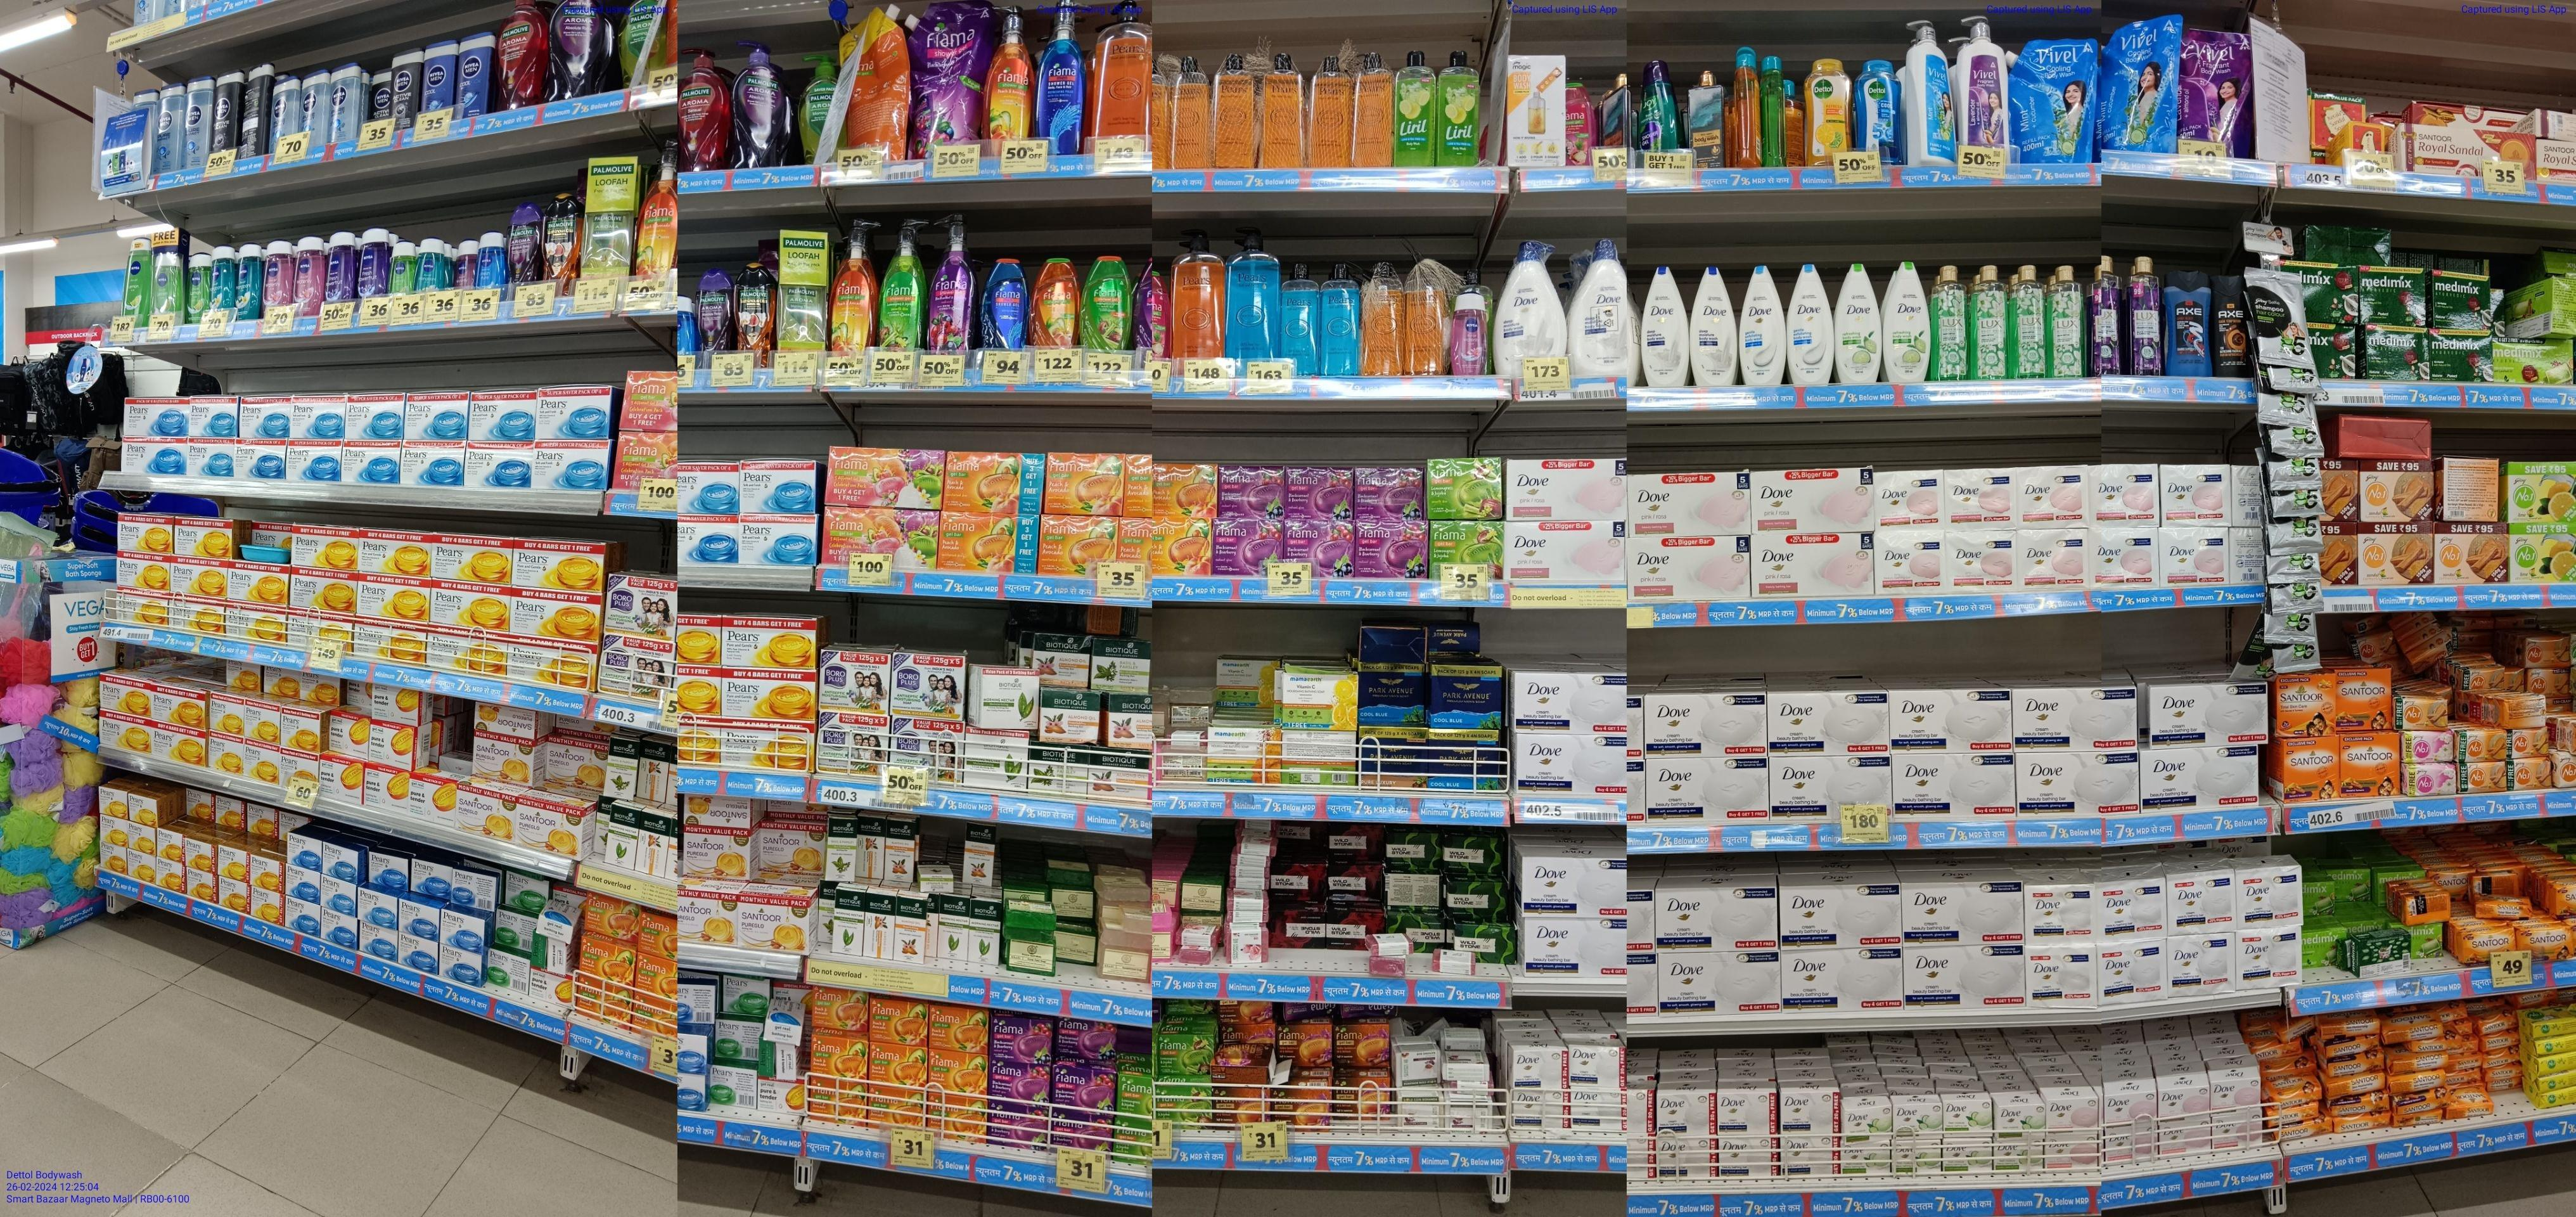Nivea_Shower_Gel_Fresh_Powerfruit_250ML: (356, 227, 389, 296), (325, 233, 356, 299)
Nivea_Shower_Gel_Lemon_and_Oil_250ML: (122, 237, 151, 325), (151, 243, 184, 319), (186, 250, 210, 317)
Nivea_Shower_Gel_Waterlily_and_Oil_250ML: (294, 235, 324, 309), (264, 240, 291, 305)
Palmolive_Luminous_Oils_With_White_Orchid_Shower_Gel_250ML: (544, 191, 583, 278)
